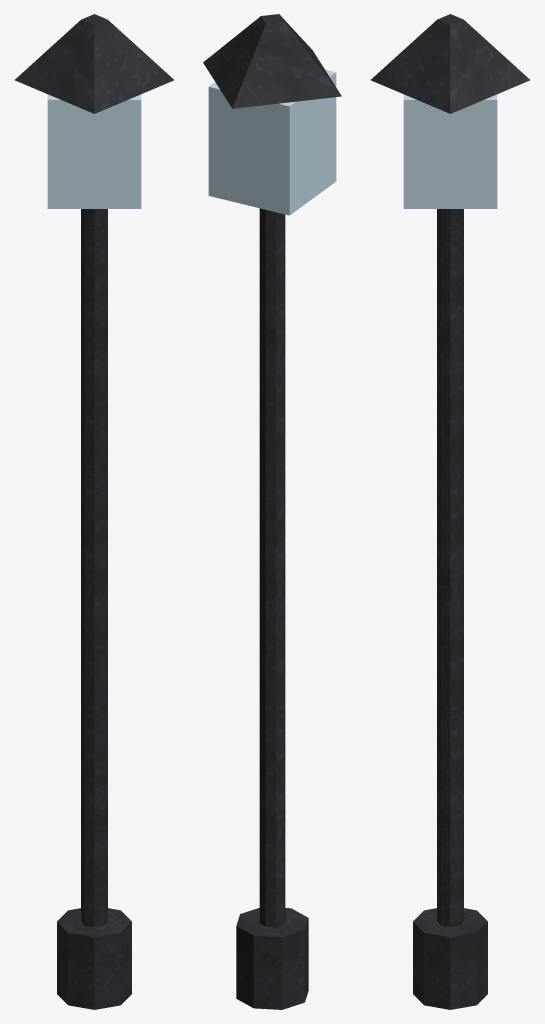
Rendered from latarnia.glb.
3 renders of one model, left to right at view 1: azimuth 90°, elevation 25°; view 2: azimuth 150°, elevation 25°; view 3: azimuth 270°, elevation 25°, orthographic.
Parts seen in each view (by area): view 1: latarnia; view 2: latarnia; view 3: latarnia.
Boxes of the visible parts, box(x1,y1,x2,y2) form: latarnia: box(14, 14, 174, 1009); latarnia: box(203, 14, 341, 1009); latarnia: box(370, 14, 530, 1009).
Size of the model in its own units: 0.6 by 4.03 by 0.6.
2 materials, 1 textured.
